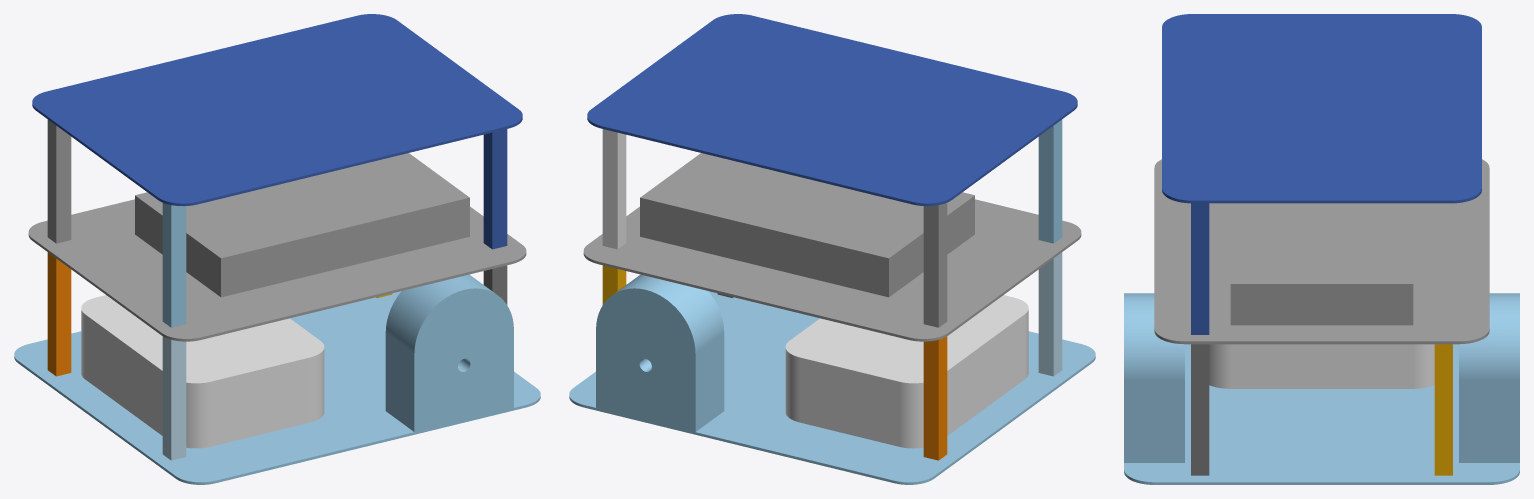
The picture shows the model from 3 angles, left to right: view 1: azimuth 30°, elevation 25°; view 2: azimuth 150°, elevation 25°; view 3: azimuth 270°, elevation 25°; orthographic projection. The views are drawn at different scales.
Visible parts, largest first — view 1: Part 3, Part 2, Part 1, Part 5, Part 10, Part 6, Part 12, Part 7, Part 11, Part 8; view 2: Part 3, Part 2, Part 1, Part 5, Part 11, Part 7, Part 13, Part 10, Part 6, Part 9; view 3: Part 3, Part 1, Part 2, Part 5, Part 12, Part 9, Part 8, Part 13.
Part boxes in pixels (x1,y1,x2,y2): Part 3: [32, 14, 522, 206]; Part 2: [28, 153, 526, 341]; Part 1: [14, 274, 540, 484]; Part 5: [81, 295, 324, 448]; Part 10: [162, 203, 186, 327]; Part 6: [162, 336, 186, 460]; Part 12: [483, 129, 507, 249]; Part 7: [47, 252, 71, 376]; Part 11: [47, 119, 71, 243]; Part 8: [483, 265, 507, 304]; Part 3: [587, 14, 1077, 206]; Part 2: [583, 153, 1081, 341]; Part 1: [569, 274, 1095, 484]; Part 5: [785, 295, 1028, 448]; Part 11: [923, 203, 947, 327]; Part 7: [923, 336, 947, 460]; Part 13: [602, 129, 626, 249]; Part 10: [1038, 119, 1062, 243]; Part 6: [1038, 252, 1062, 376]; Part 9: [602, 265, 626, 304]; Part 3: [1162, 14, 1481, 203]; Part 1: [1124, 293, 1519, 484]; Part 2: [1154, 159, 1489, 344]; Part 5: [1209, 344, 1434, 388]; Part 12: [1191, 203, 1209, 334]; Part 9: [1434, 344, 1452, 475]; Part 8: [1191, 344, 1209, 475]; Part 13: [1434, 203, 1452, 334].
Size of the model in its own units: 0.145 by 0.13 by 0.115.
